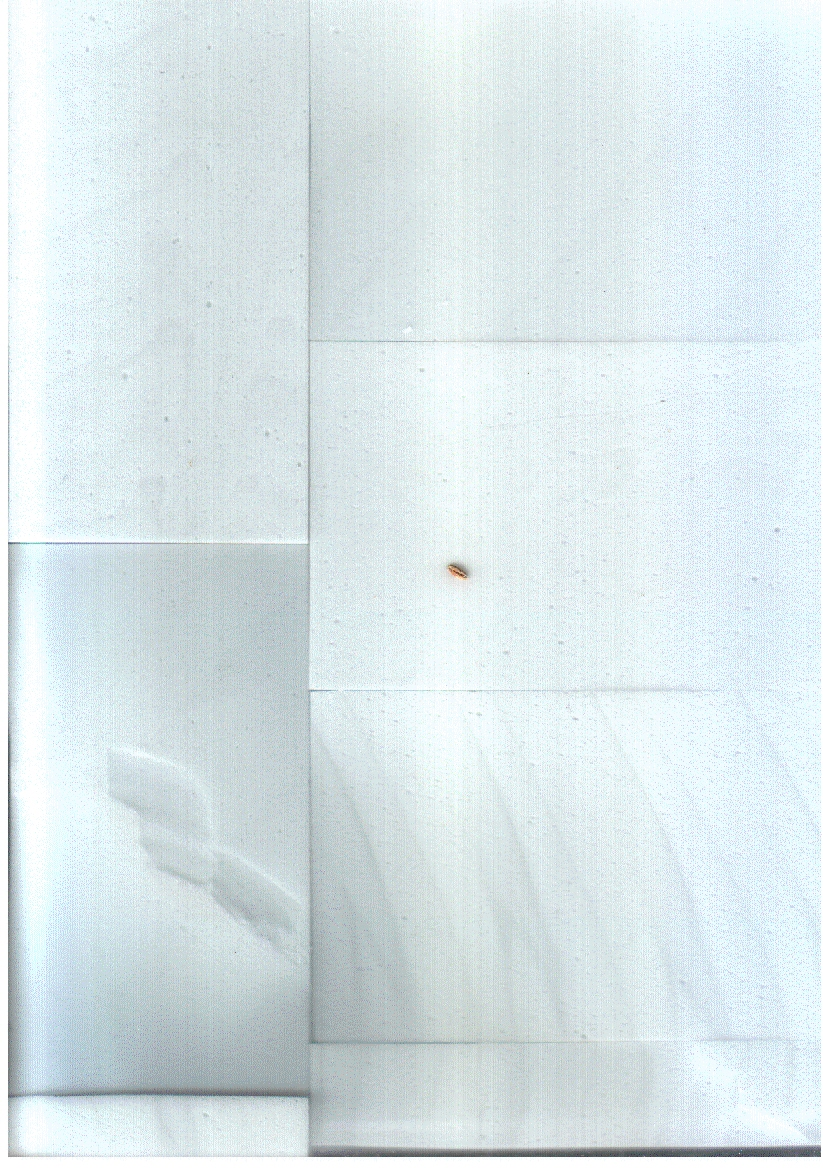grains: (438, 539, 480, 597)
